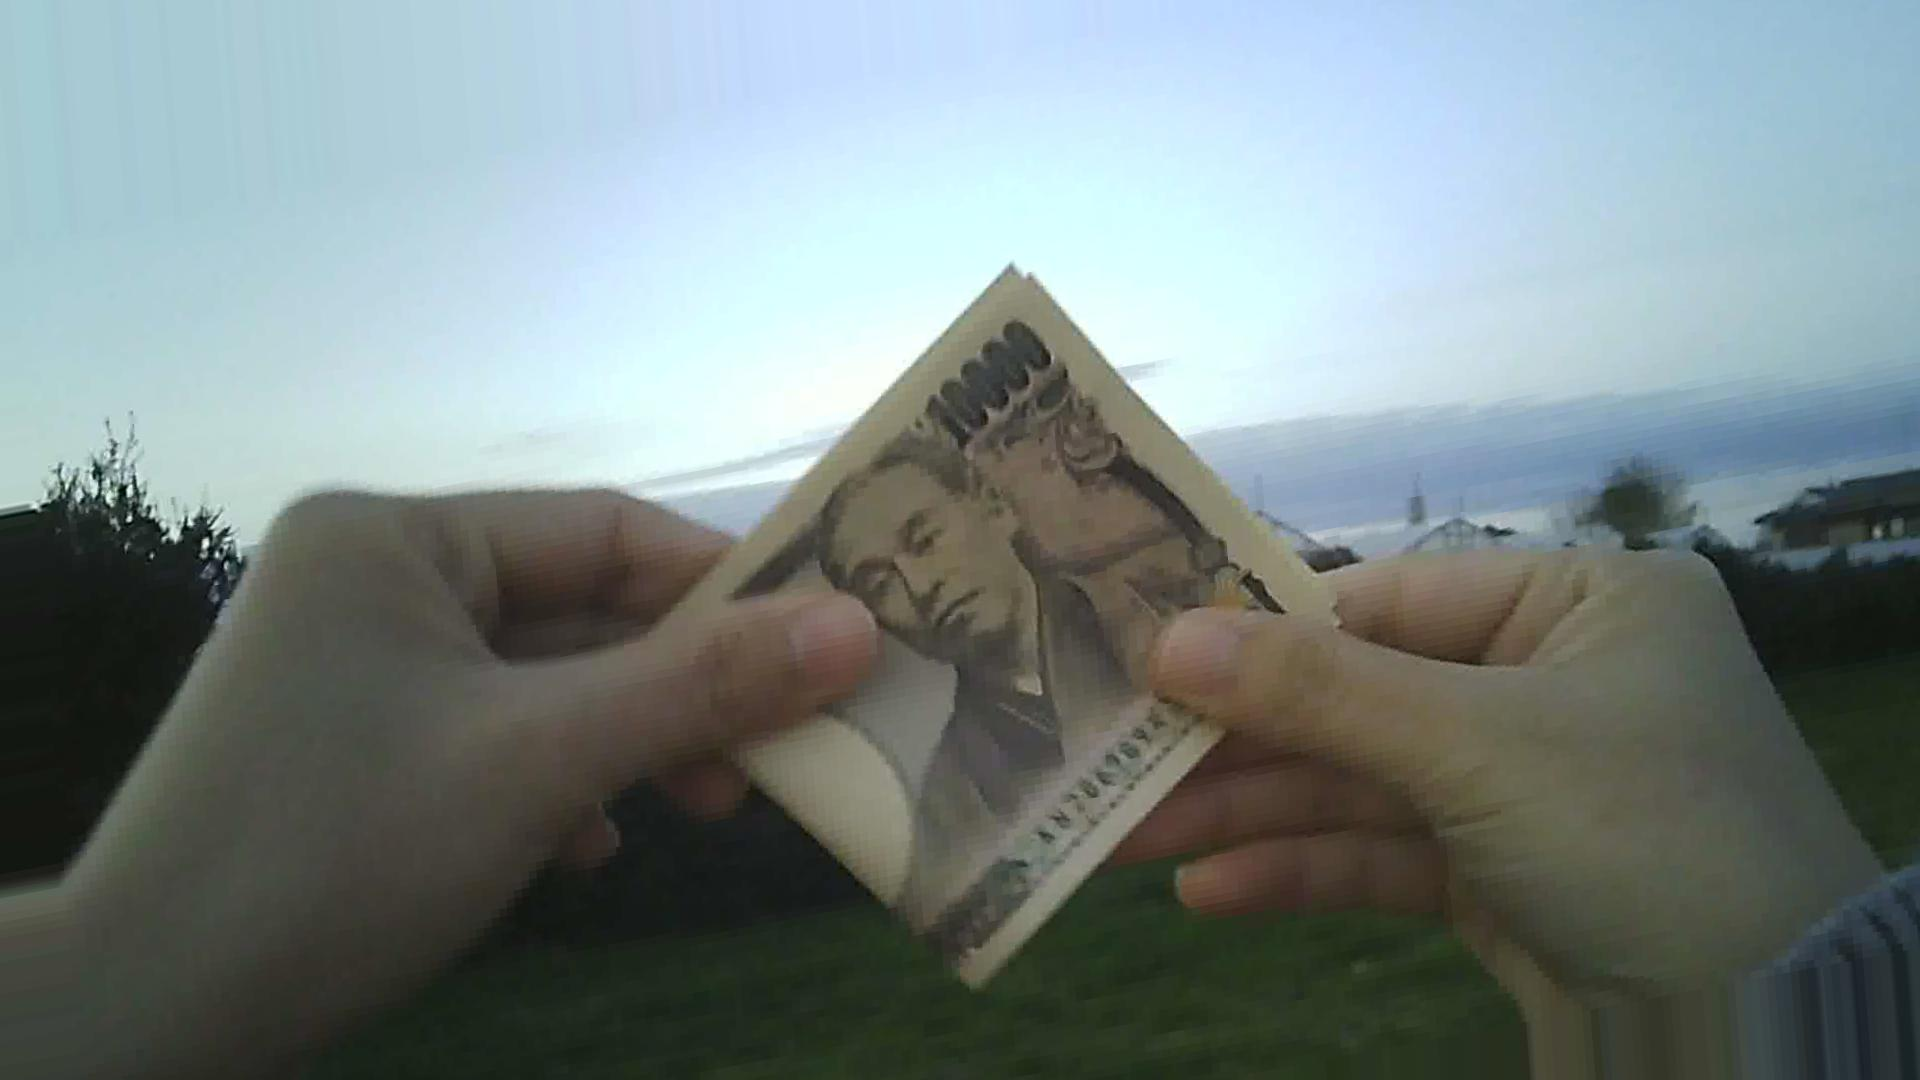10,000 Yen: (611, 287, 1352, 952)
